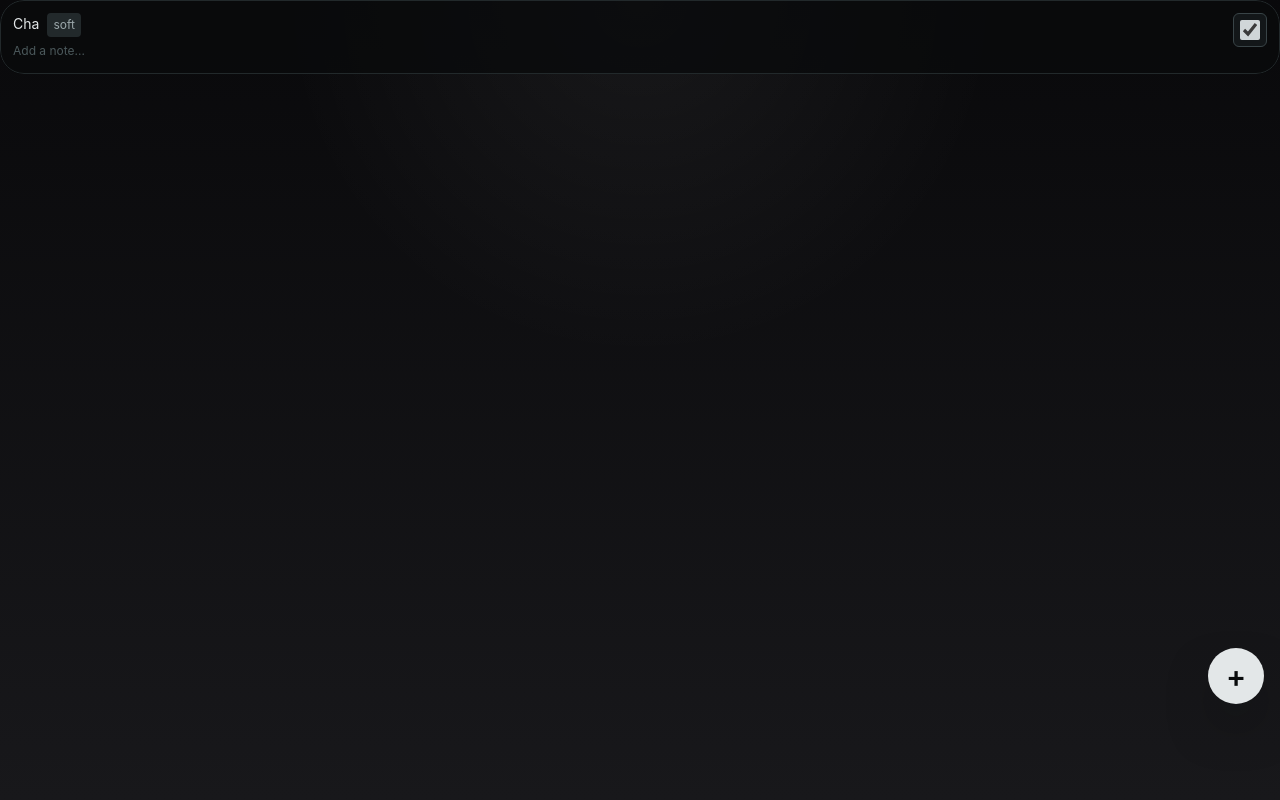
Scenario: TransactionsTab › preserves invalid formula draft after validation failure
Click the button "Cha".
click(26, 24)  # box [13,15,39,32]
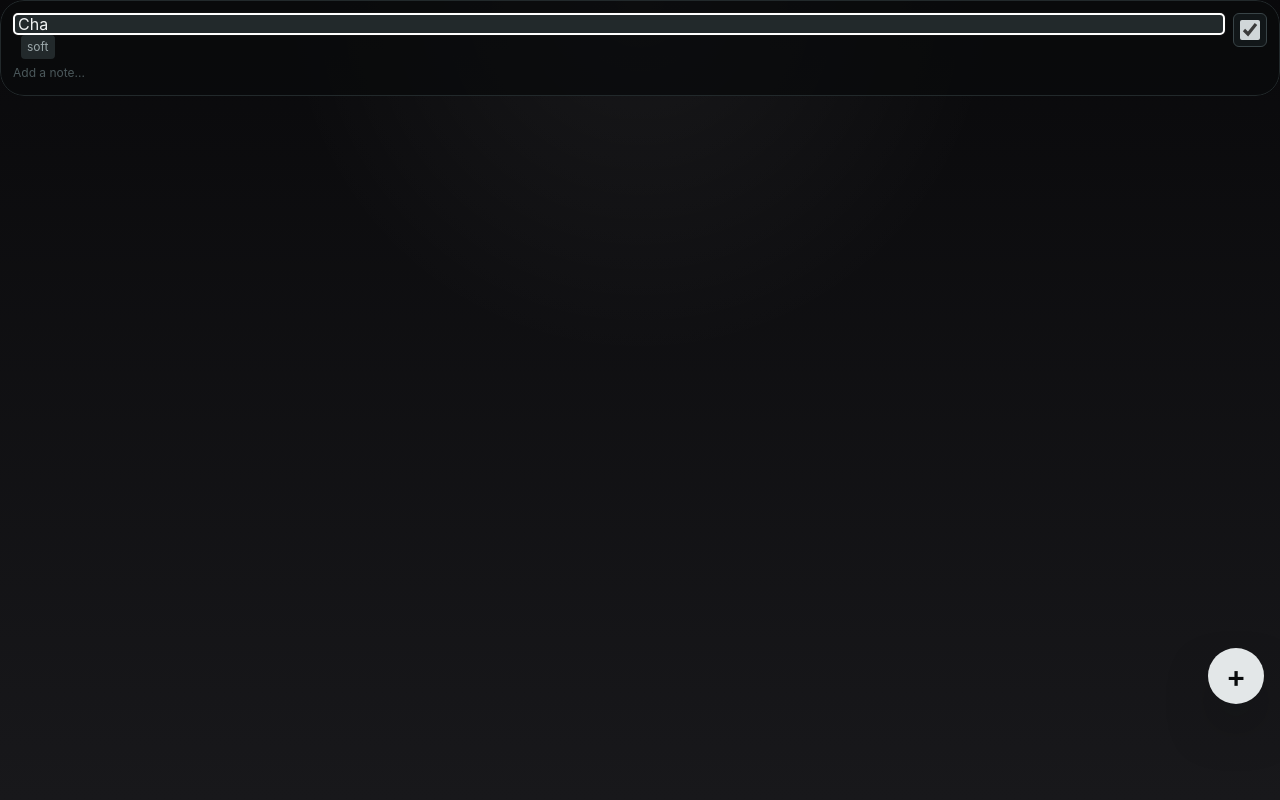
Replace the text in the field named "Edit formula" with "Invalid" at (619, 24), box [13,13,1225,35]
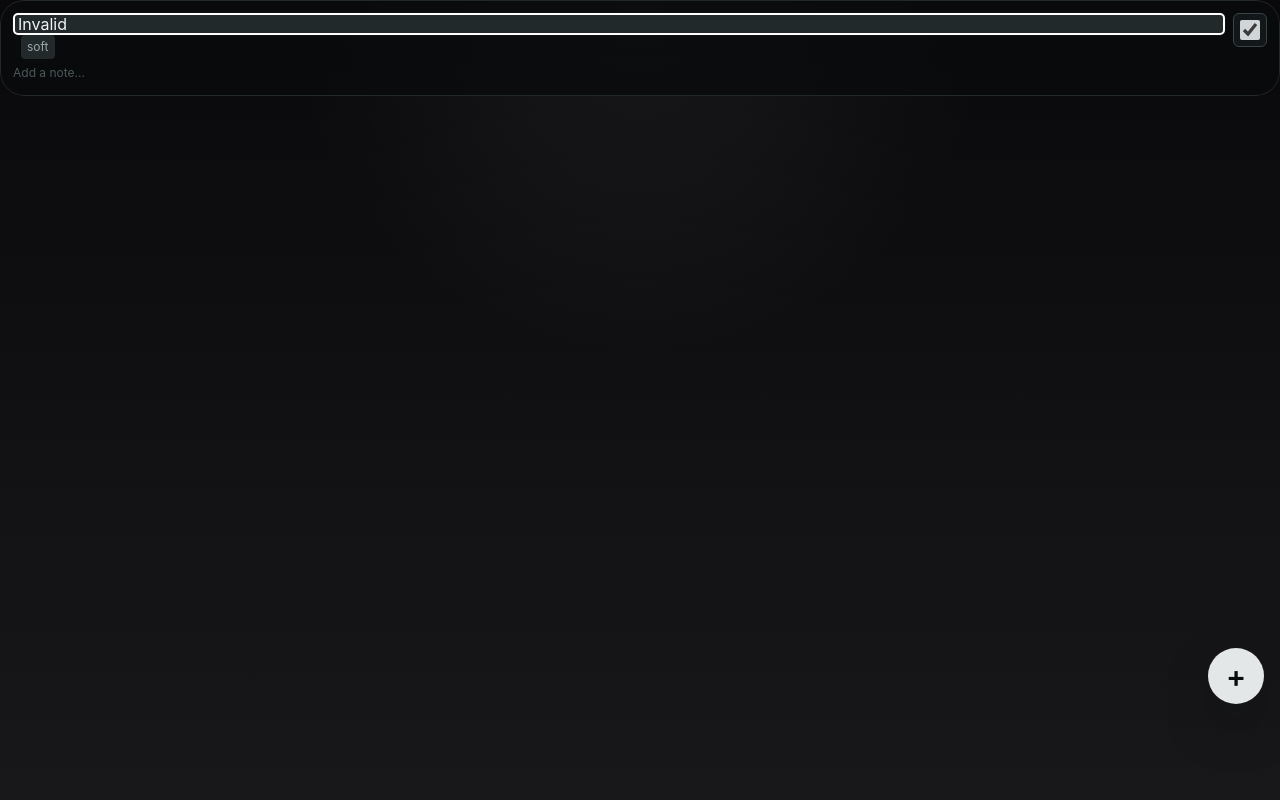
Press Tab
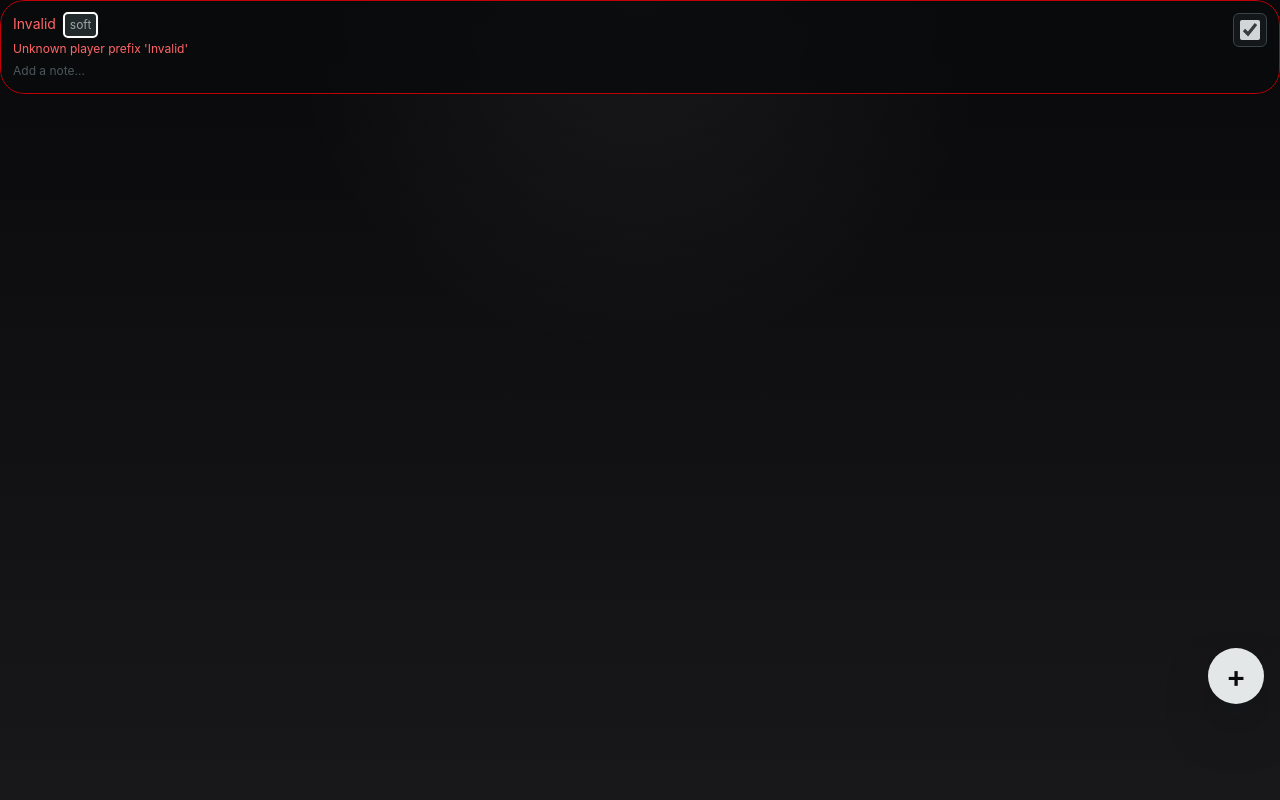
Check: the text "Unknown player prefix 'Invalid'" is shown, box [13,41,188,56]
Check: the button "Invalid" is shown
Click the button "Invalid".
click(34, 24)  # box [13,15,56,32]
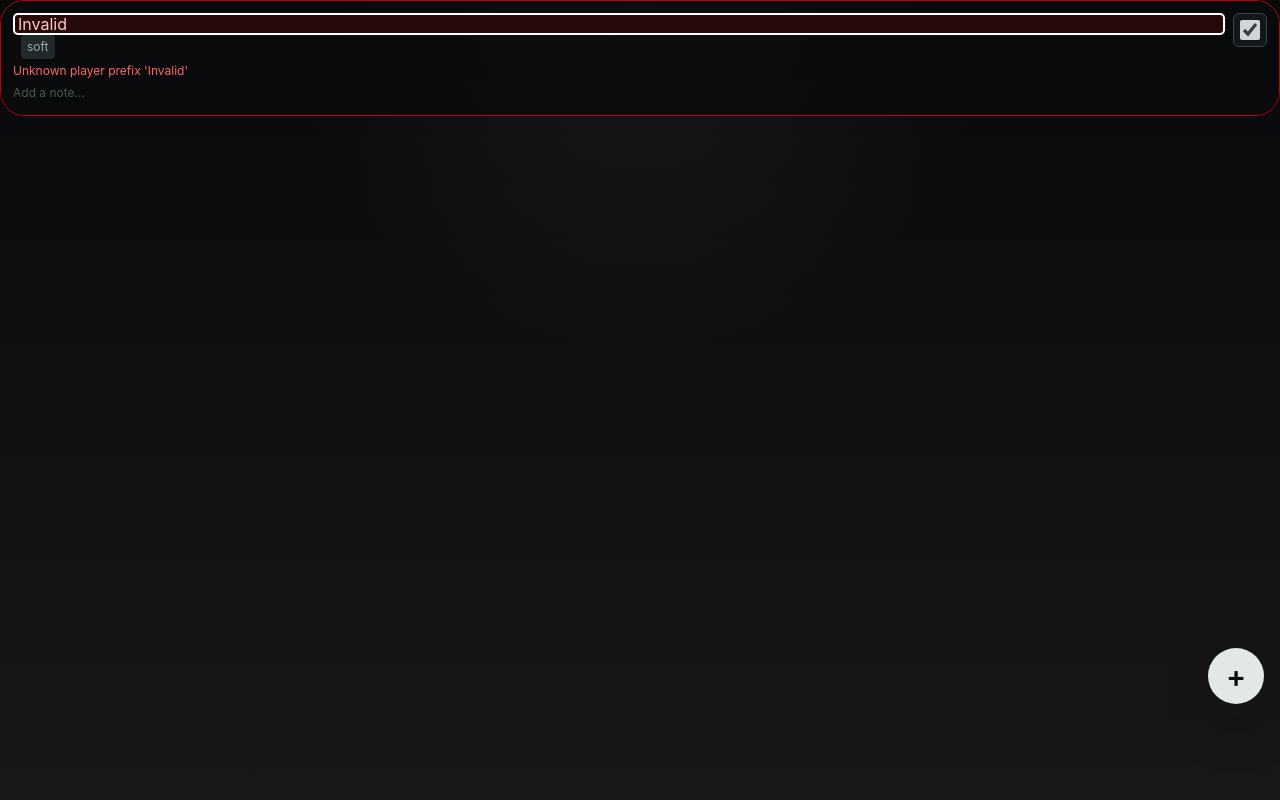
Check: the field named "Edit formula" holds "Invalid", box [13,13,1225,35]
